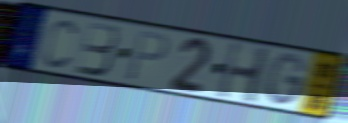2: (169, 35, 214, 97)
B: (74, 20, 120, 78)
C: (41, 17, 78, 70)
G: (264, 51, 309, 109)
H: (215, 39, 273, 106)
P: (124, 29, 171, 83)
